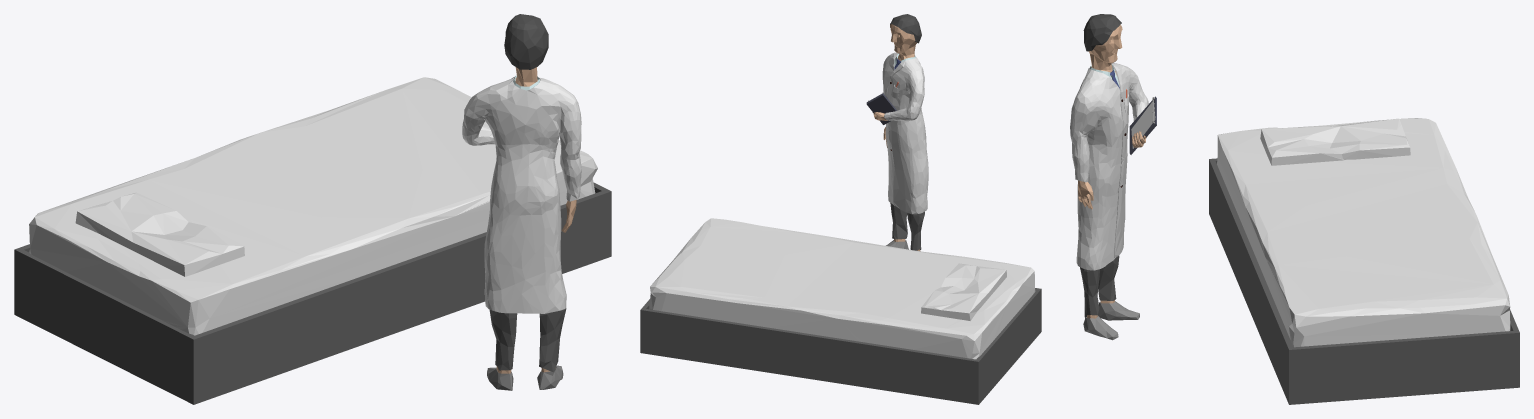
File: çlsnlbtvrv1.fbx
3 renders of one model, left to right at view 1: azimuth 30°, elevation 25°; view 2: azimuth 150°, elevation 25°; view 3: azimuth 270°, elevation 25°, orthographic. The views are drawn at different scales.
Parts seen in each view (by area): view 1: Bed, doctor; view 2: Bed, doctor, clipboard; view 3: Bed, doctor, clipboard.
Boxes of the visible parts, x1,y1,x2,y2 form: Bed: [14, 77, 611, 404]; doctor: [462, 14, 581, 390]; Bed: [640, 218, 1041, 404]; doctor: [872, 14, 928, 251]; clipboard: [866, 92, 896, 124]; Bed: [1209, 118, 1519, 404]; doctor: [1070, 14, 1148, 340]; clipboard: [1129, 96, 1156, 154].
Bounding box in the file's own units: 2339 × 1619 × 2135.
